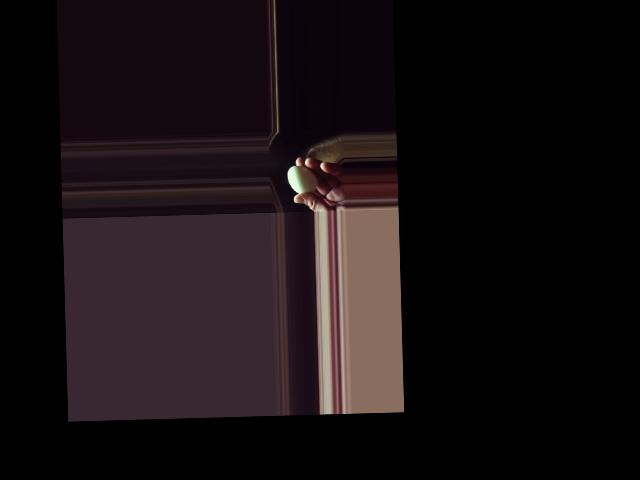egg: (287, 165, 317, 194)
